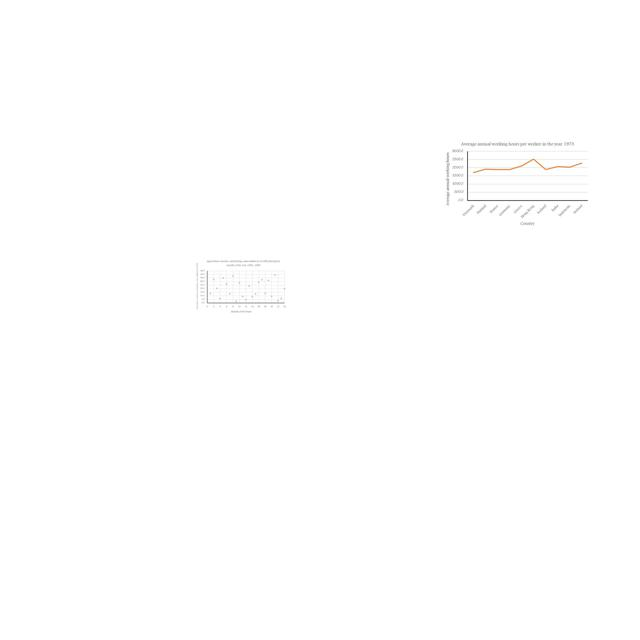Graph: (445, 141, 590, 227), (194, 258, 287, 314)
